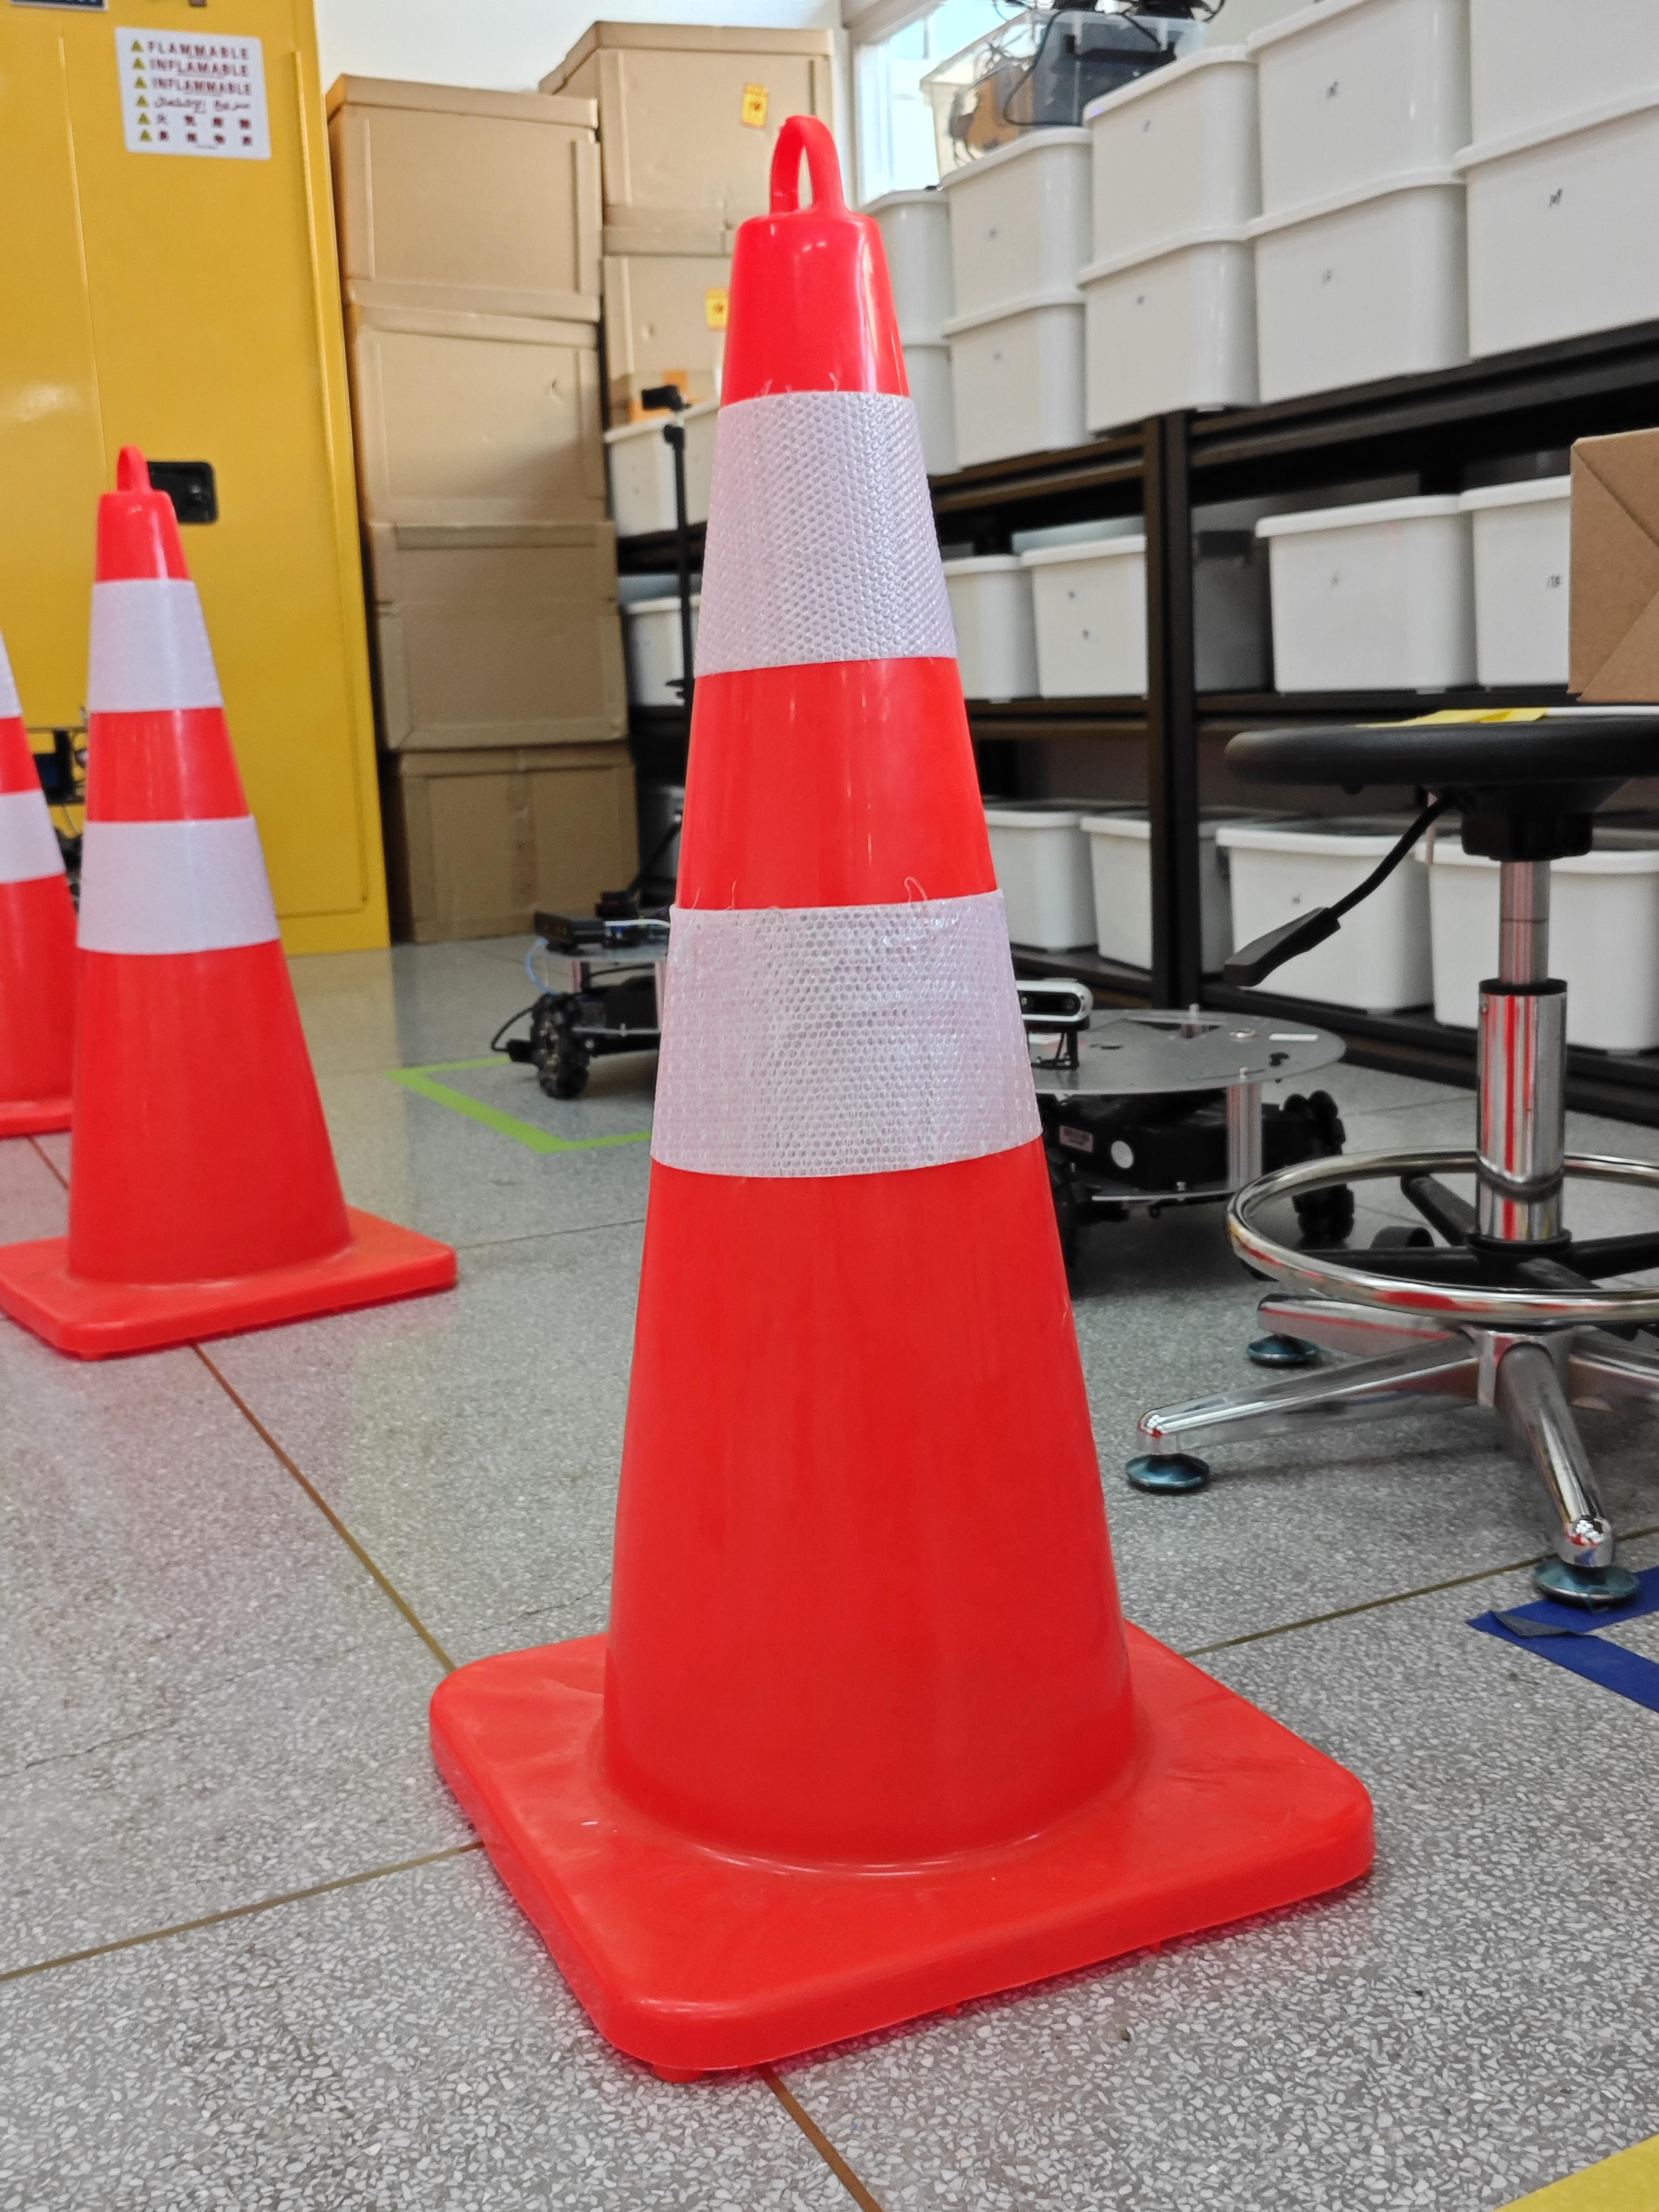cone: (432, 118, 1371, 2074), (0, 449, 455, 1357), (0, 641, 75, 1137)
